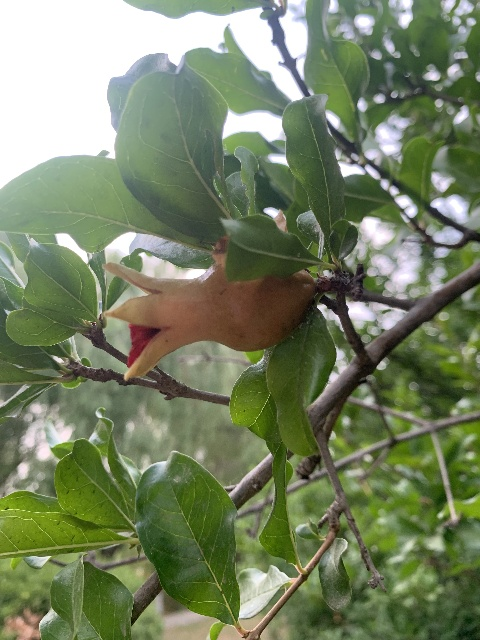early-fruit: (101, 261, 313, 381)
